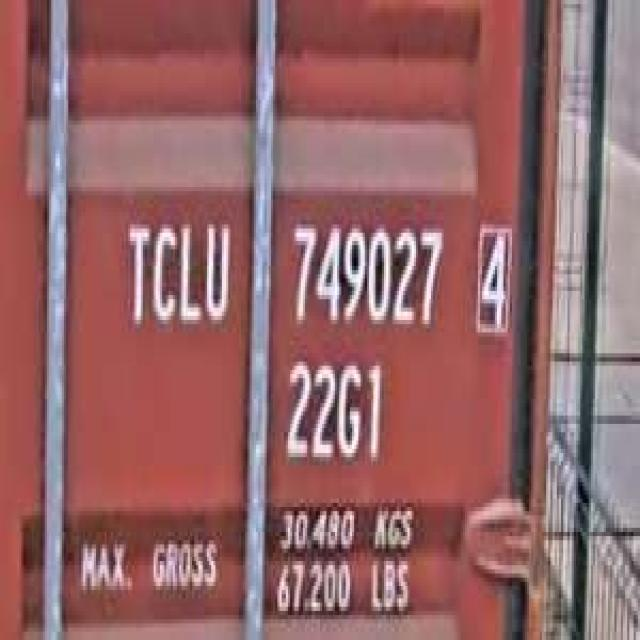dv: (469, 212, 516, 341)
owner: (120, 208, 234, 336)
serial: (284, 212, 446, 337)
size: (277, 349, 388, 474)
